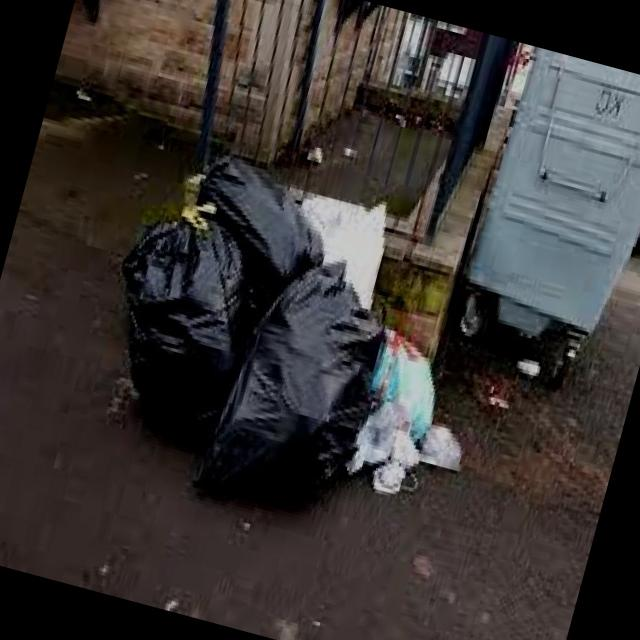high trash: (122, 159, 460, 502)
less trash: (487, 380, 509, 409), (516, 358, 540, 382)
